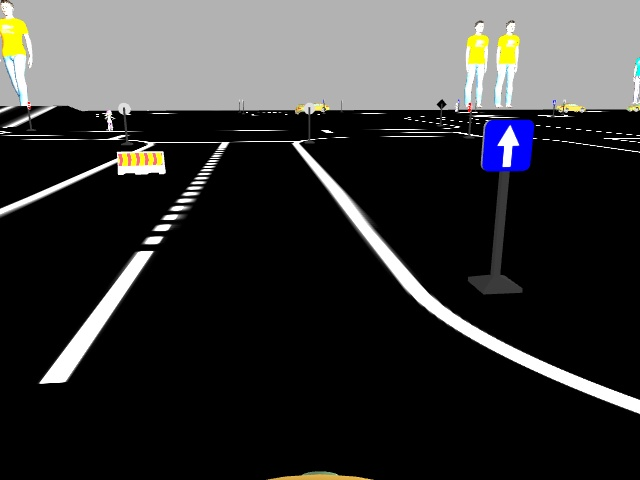ClosedRoadStand: (117, 153, 164, 173)
OneWay: (485, 121, 531, 171)
